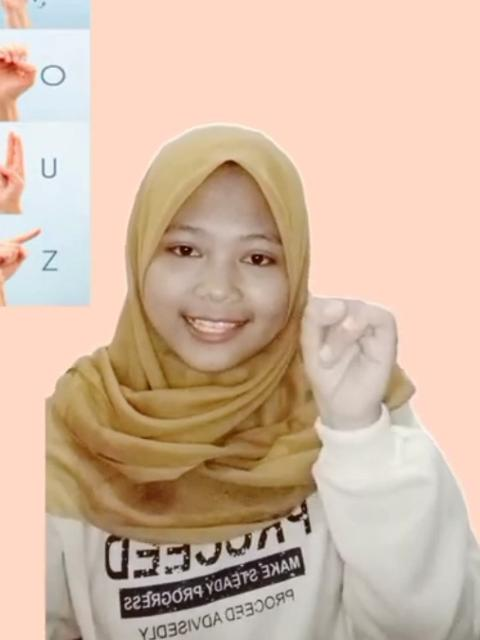S: (296, 290, 407, 424)
